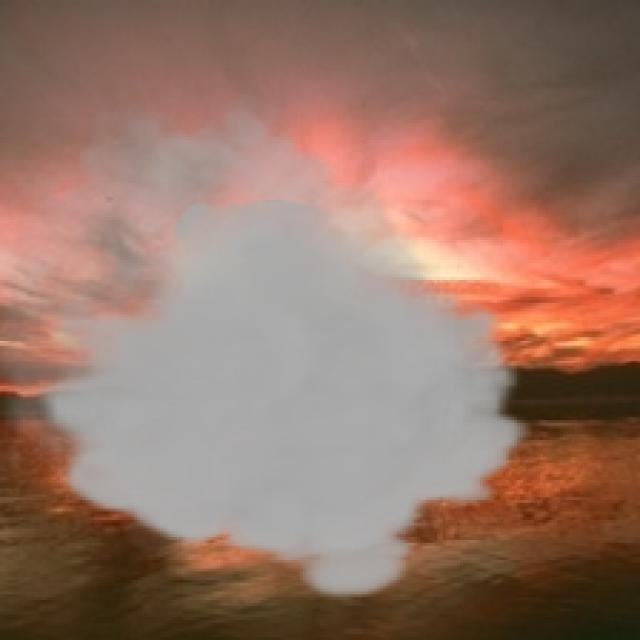Smoke: (0, 88, 532, 603)
